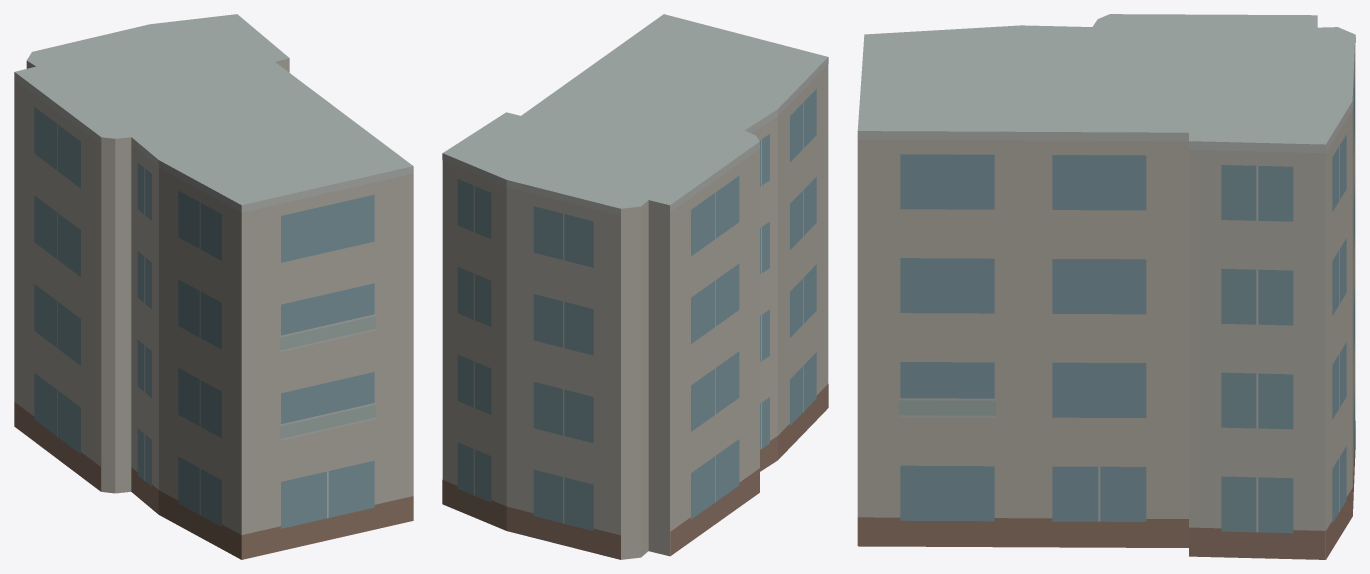
Rendered from survey-upis-32972834.glb.
3 renders of one model, left to right at view 1: azimuth 30°, elevation 25°; view 2: azimuth 150°, elevation 25°; view 3: azimuth 270°, elevation 25°, orthographic. The views are drawn at different scales.
Visible parts, largest first — view 1: survey-upis-32972834.tmp; view 2: survey-upis-32972834.tmp; view 3: survey-upis-32972834.tmp.
Part boxes in pixels (<box>): survey-upis-32972834.tmp: <box>14,14,413,559</box>; survey-upis-32972834.tmp: <box>442,14,828,559</box>; survey-upis-32972834.tmp: <box>857,14,1355,559</box>.
Size of the model in its own units: 7.89 by 11.7 by 12.71.
